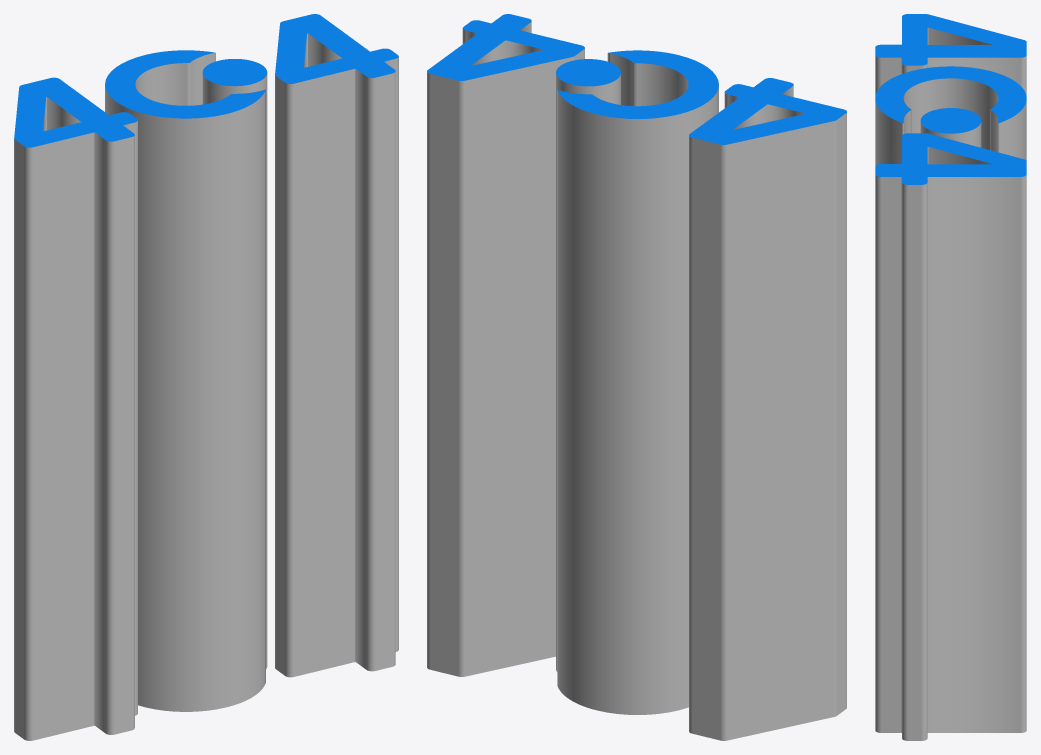
The picture shows the model from 3 angles, left to right: view 1: azimuth 30°, elevation 25°; view 2: azimuth 150°, elevation 25°; view 3: azimuth 270°, elevation 25°; orthographic projection. The views are drawn at different scales.
Parts seen in each view (by area): view 1: Curve.005, Curve.004, Curve.003; view 2: Curve.003, Curve.005, Curve.004; view 3: Curve.004, Curve.005, Curve.003.
Boxes of the visible parts, box(x1,y1,x2,y2) form: Curve.005: box(105, 50, 267, 711); Curve.004: box(275, 14, 398, 677); Curve.003: box(14, 77, 137, 740); Curve.003: box(689, 78, 846, 740); Curve.005: box(556, 50, 718, 714); Curve.004: box(427, 14, 584, 676); Curve.004: box(875, 133, 1026, 740); Curve.005: box(875, 66, 1026, 165); Curve.003: box(875, 14, 1026, 96).
Size of the model in its own units: 2.15 by 3.26 by 0.8054.
